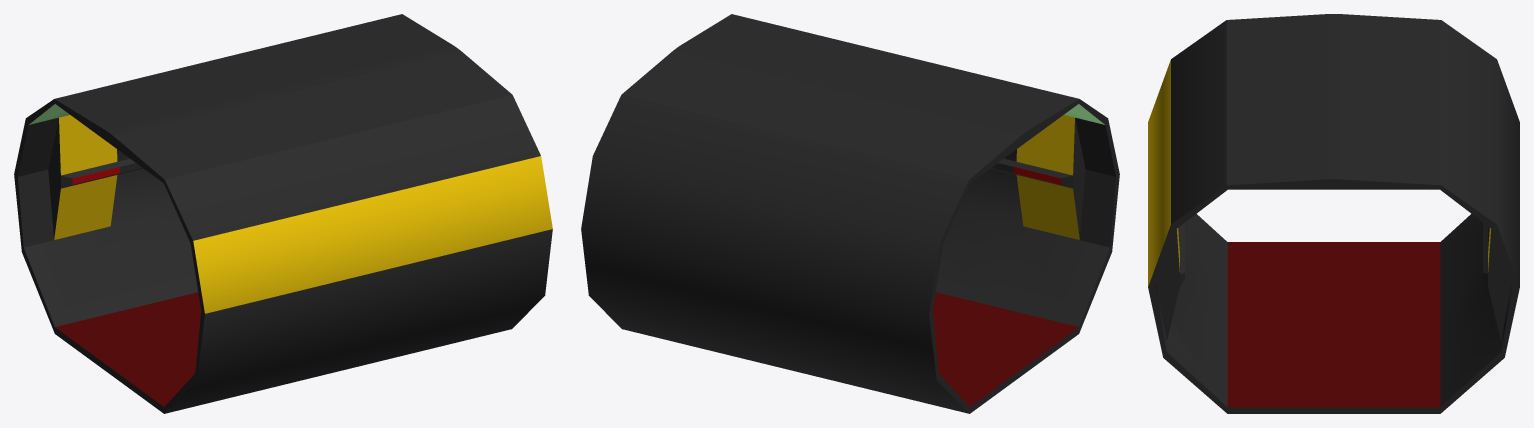
The model's file is Corridore_03.fbx.
The picture shows the model from 3 angles, left to right: view 1: azimuth 30°, elevation 25°; view 2: azimuth 150°, elevation 25°; view 3: azimuth 270°, elevation 25°; orthographic projection. The views are drawn at different scales.
Visible parts, largest first — view 1: Corridore_03; view 2: Corridore_03; view 3: Corridore_03.
Boxes of the visible parts, box(x1,y1,x2,y2) form: Corridore_03: box(14, 14, 552, 413); Corridore_03: box(581, 14, 1119, 413); Corridore_03: box(1148, 14, 1519, 413).
Size of the model in its own units: 547 by 362 by 519.
